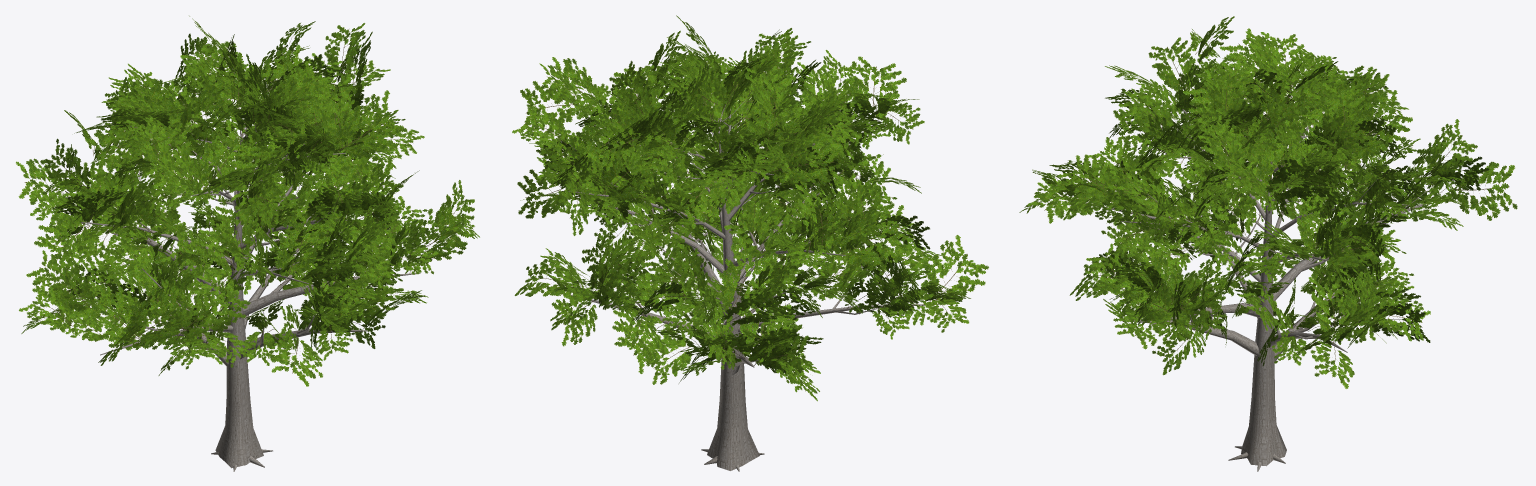
Rendered from WhiteOak.fbx.
3 views of the same model, side by side, from view 1: azimuth 30°, elevation 25°; view 2: azimuth 150°, elevation 25°; view 3: azimuth 270°, elevation 25° (orthographic).
Parts seen in each view (by area): view 1: Foliage, Bark; view 2: Foliage, Bark; view 3: Foliage, Bark.
Part boxes in pixels (x1,y1,x2,y2): Foliage: [16, 16, 479, 386]; Bark: [65, 74, 420, 471]; Foliage: [512, 15, 988, 401]; Bark: [568, 78, 943, 471]; Foliage: [1019, 16, 1517, 388]; Bark: [1086, 88, 1428, 471].
Bounding box in the file's own units: 26.64 × 23.44 × 27.22.
